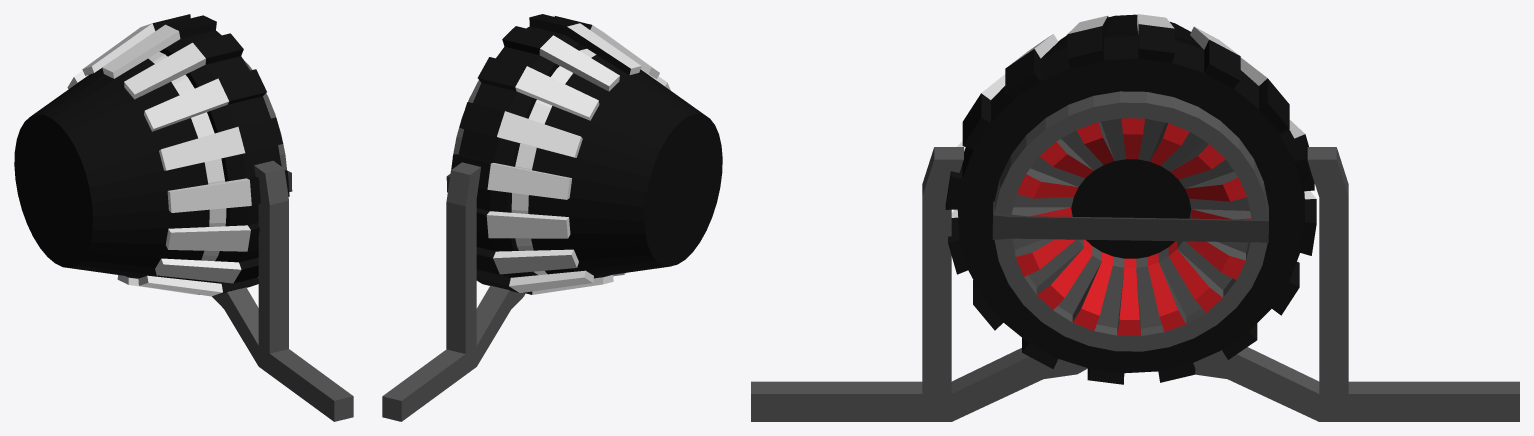
File: Reactor.fbx
3 renders of one model, left to right at view 1: azimuth 30°, elevation 25°; view 2: azimuth 150°, elevation 25°; view 3: azimuth 270°, elevation 25°, orthographic. The views are drawn at different scales.
Visible parts, largest first — view 1: Цилиндр.001, Куб.001; view 2: Цилиндр.001, Куб; view 3: Цилиндр.001, Куб, Куб.001.
Boxes of the visible parts, left/top/right/bottom form: Цилиндр.001: left=14, top=14, right=292, bottom=296; Куб.001: left=212, top=160, right=353, bottom=421; Цилиндр.001: left=446, top=14, right=722, bottom=294; Куб: left=382, top=162, right=525, bottom=421; Цилиндр.001: left=945, top=14, right=1316, bottom=384; Куб: left=1193, top=147, right=1519, bottom=421; Куб.001: left=751, top=147, right=1087, bottom=421.
Size of the model in its own units: 500 by 734 by 1348.
